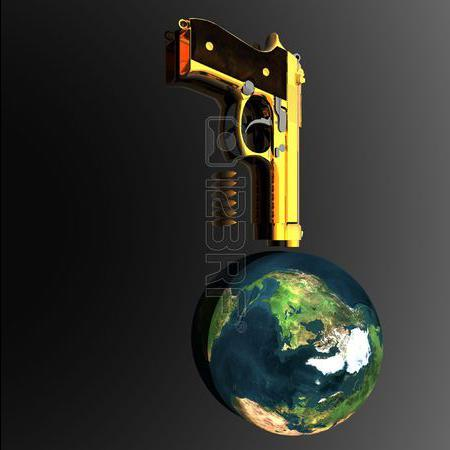Pistol: (174, 16, 324, 245)
